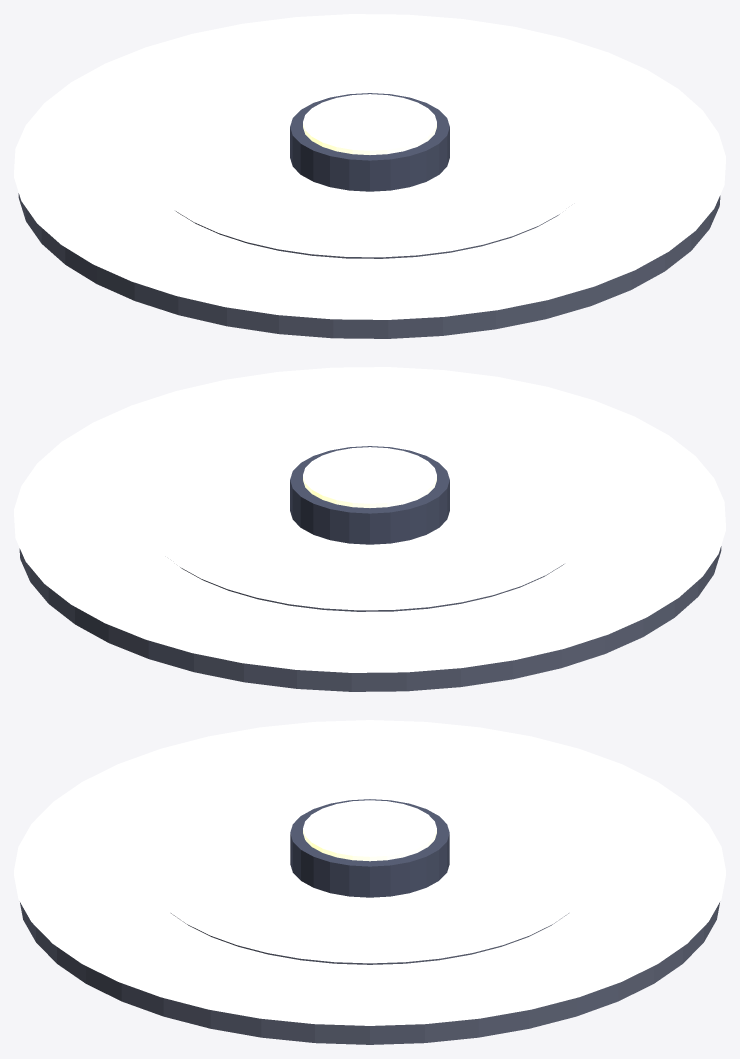
File: plaza.glb
The picture shows the model from 3 angles, top to bottom: view 1: azimuth 30°, elevation 25°; view 2: azimuth 150°, elevation 25°; view 3: azimuth 270°, elevation 25°; orthographic projection.
Parts seen in each view (by area): view 1: Ring, InnerRing, Base, Projector, Lens, Inner; view 2: Ring, InnerRing, Base, Projector, Lens, Inner; view 3: Ring, InnerRing, Base, Projector, Lens, Inner.
Part boxes in pixels (left/top/right/bottom): Ring: left=14, top=14, right=725, bottom=319; InnerRing: left=143, top=62, right=596, bottom=257; Base: left=18, top=193, right=720, bottom=338; Projector: left=290, top=93, right=449, bottom=191; Lens: left=303, top=94, right=436, bottom=154; Inner: left=176, top=211, right=559, bottom=258; Ring: left=14, top=367, right=725, bottom=672; InnerRing: left=143, top=415, right=596, bottom=610; Base: left=19, top=546, right=721, bottom=691; Projector: left=290, top=446, right=449, bottom=544; Lens: left=303, top=447, right=436, bottom=507; Inner: left=180, top=564, right=563, bottom=611; Ring: left=14, top=720, right=725, bottom=1025; InnerRing: left=143, top=768, right=596, bottom=963; Base: left=20, top=902, right=719, bottom=1044; Projector: left=290, top=799, right=449, bottom=897; Lens: left=303, top=800, right=436, bottom=861; Inner: left=171, top=913, right=568, bottom=964.
Bounding box in the file's own units: 44.6 × 4.7 × 44.6.
